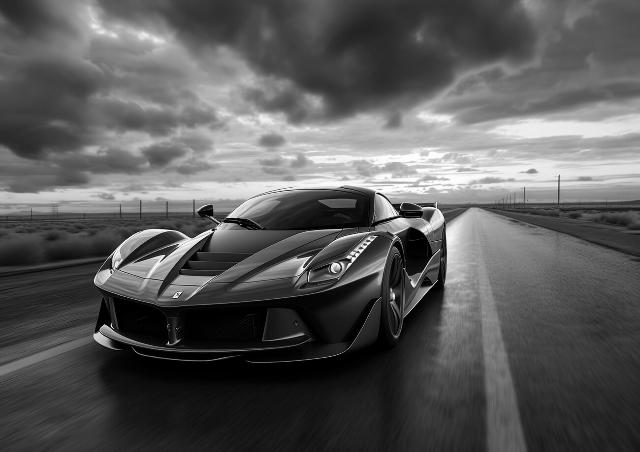sport: (70, 175, 463, 379)
